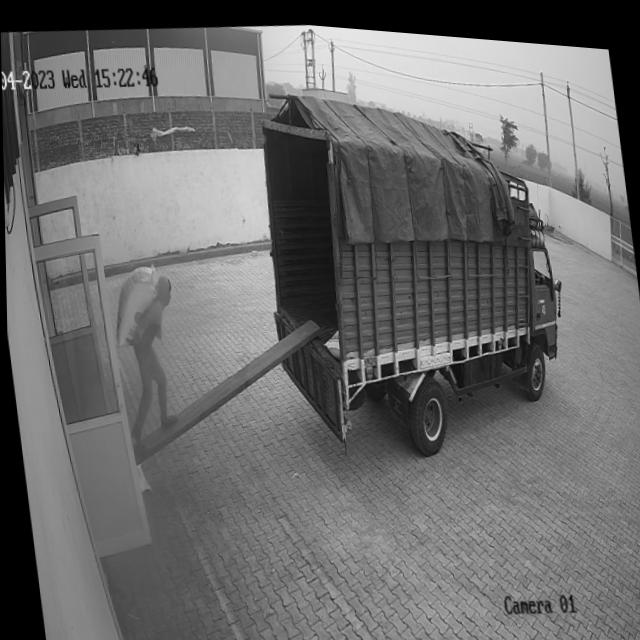sack: (105, 260, 164, 350)
